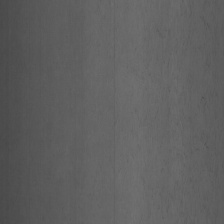silk_spot: (133, 5, 218, 209)
